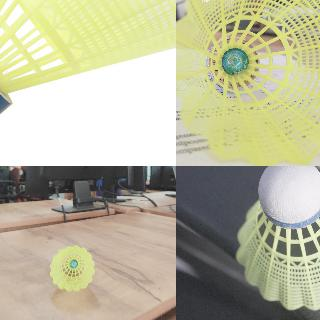shuttlecock: (0, 0, 175, 135), (176, 0, 319, 165), (236, 166, 319, 312), (49, 244, 95, 292)
